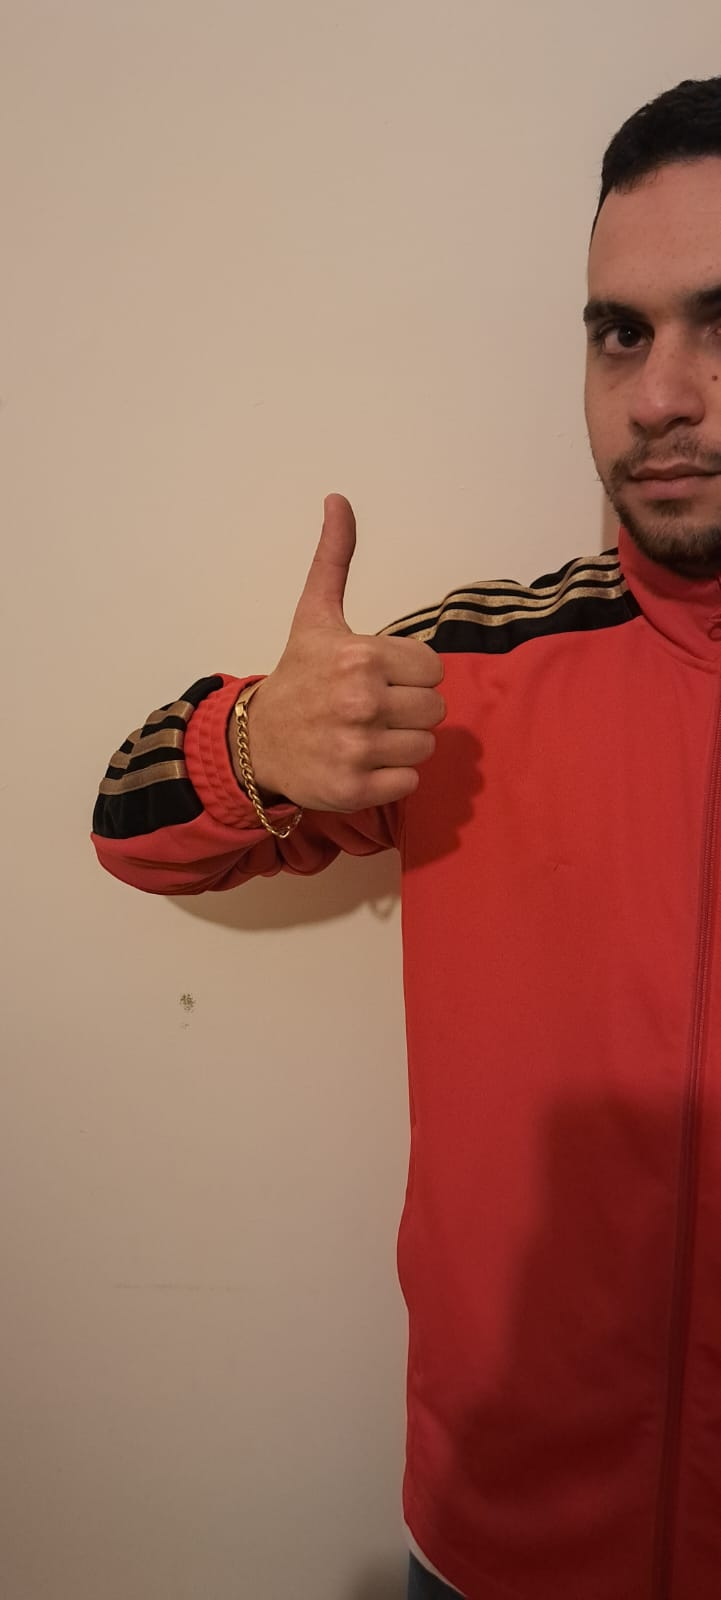okay: (266, 487, 449, 832)
